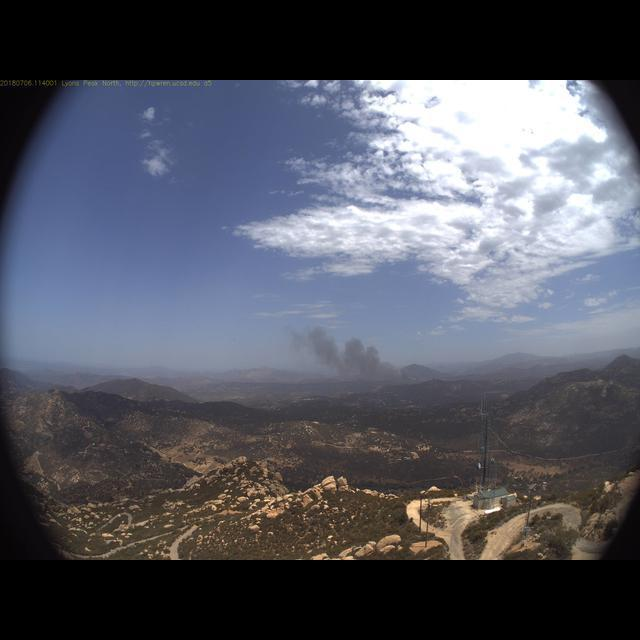Smoke: (283, 320, 416, 398)
